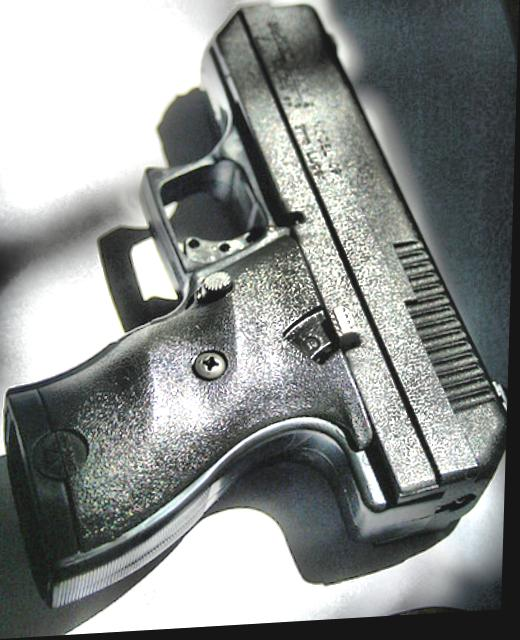pistol: (12, 0, 518, 607)
